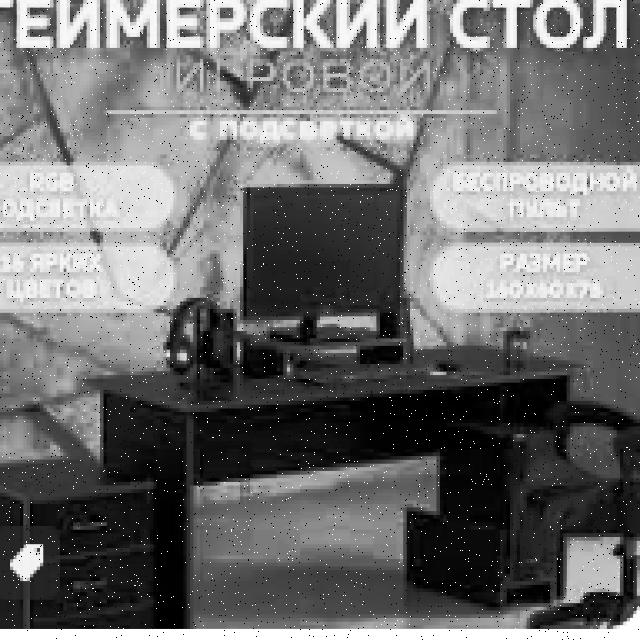table: (77, 342, 590, 625)
